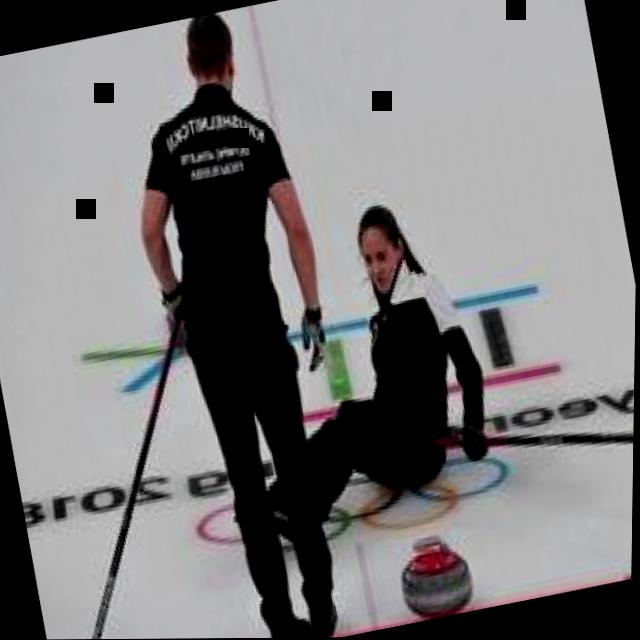Fall-Detected: (208, 152, 532, 549)
